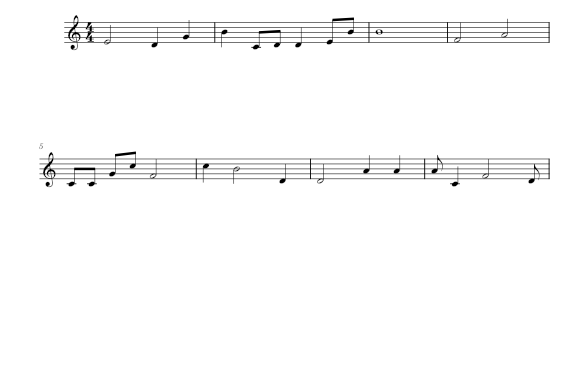Treble Clef: (39, 149, 60, 191), (64, 9, 84, 53)
